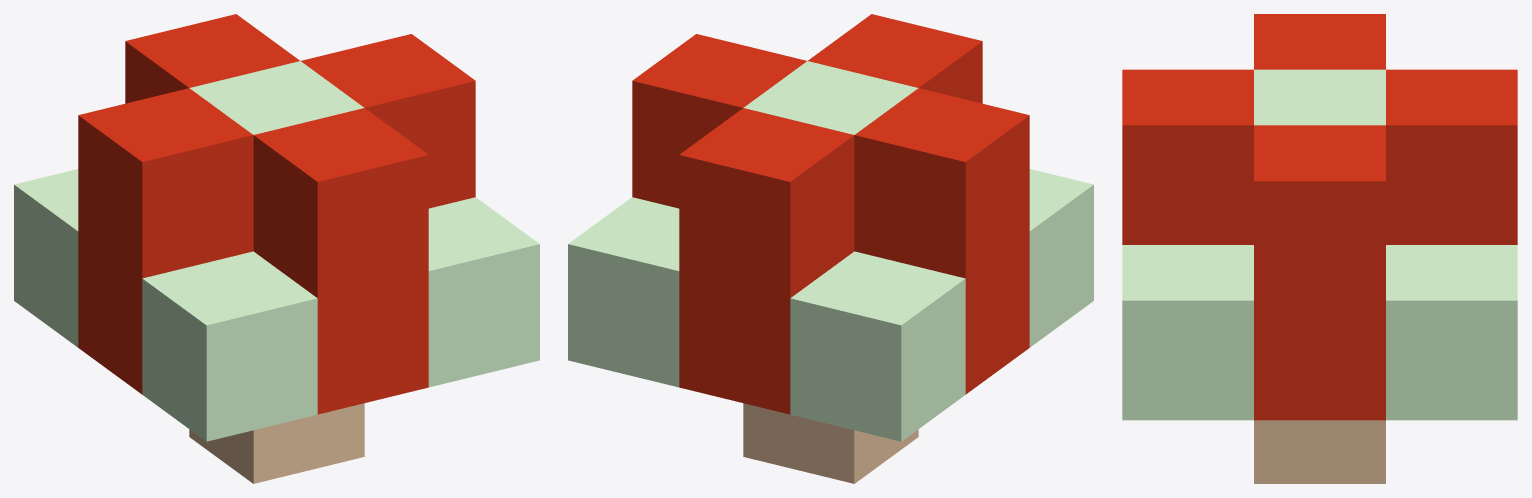
File: tile-44.obj
3 renders of one model, left to right at view 1: azimuth 30°, elevation 25°; view 2: azimuth 150°, elevation 25°; view 3: azimuth 270°, elevation 25°, orthographic. The views are drawn at different scales.
Size of the model in its own units: 0.3 by 0.3 by 0.3.
1 material, 1 textured.
